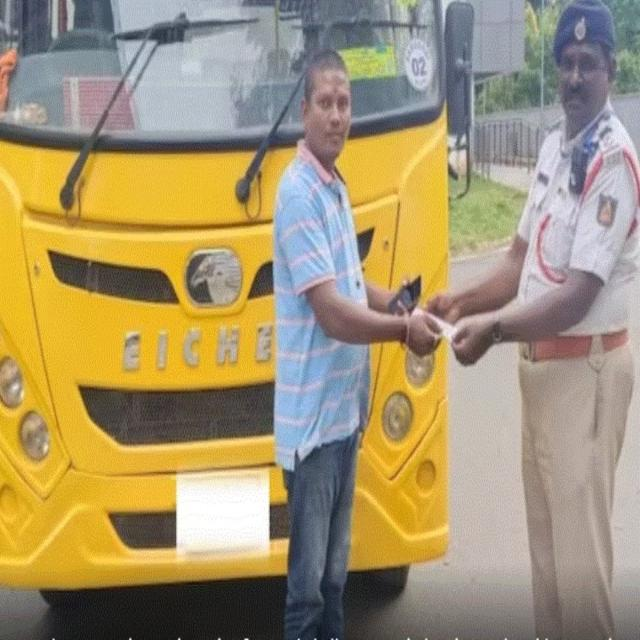bus: (0, 0, 471, 591)
